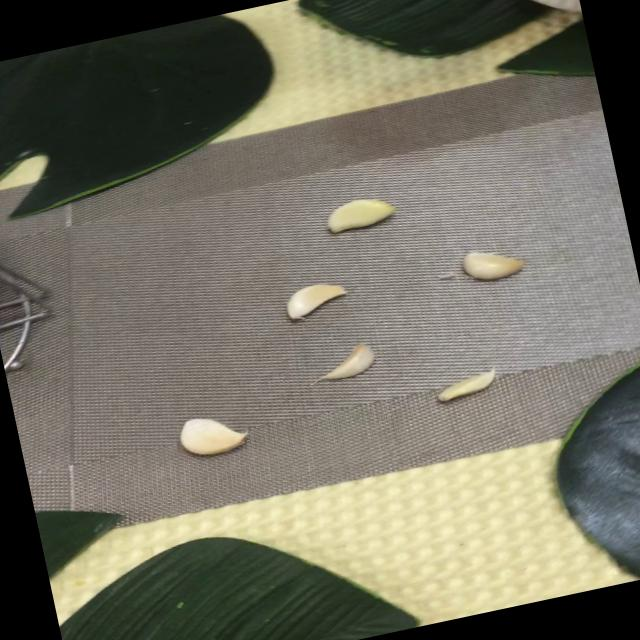bawang: (166, 404, 258, 466), (455, 237, 534, 292), (316, 188, 401, 238), (424, 362, 506, 410), (276, 272, 352, 322), (310, 338, 384, 386)
